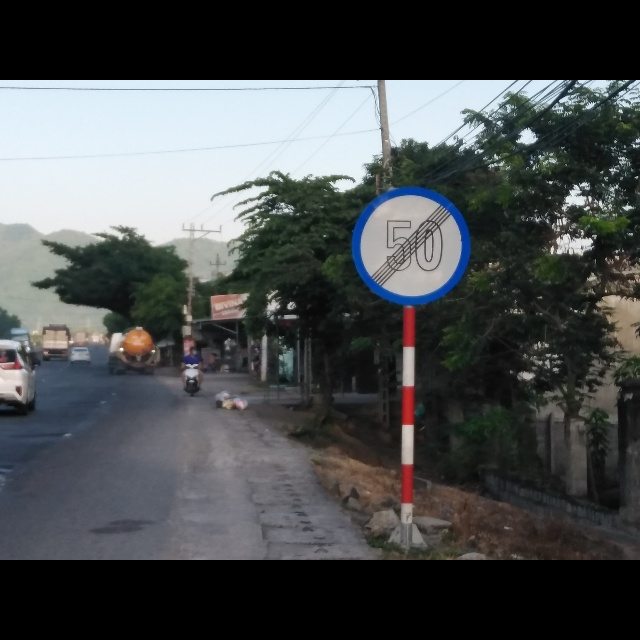Hết hạn chế tốc độ tối đa 50km/h: (346, 184, 471, 308)
